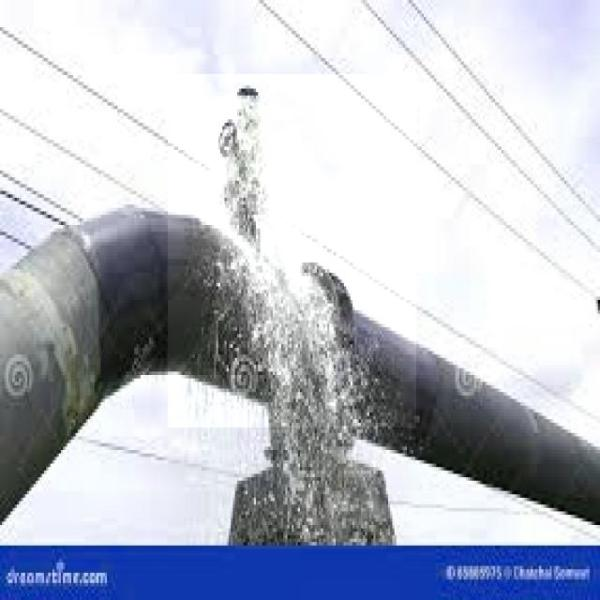water: (170, 70, 410, 438)
